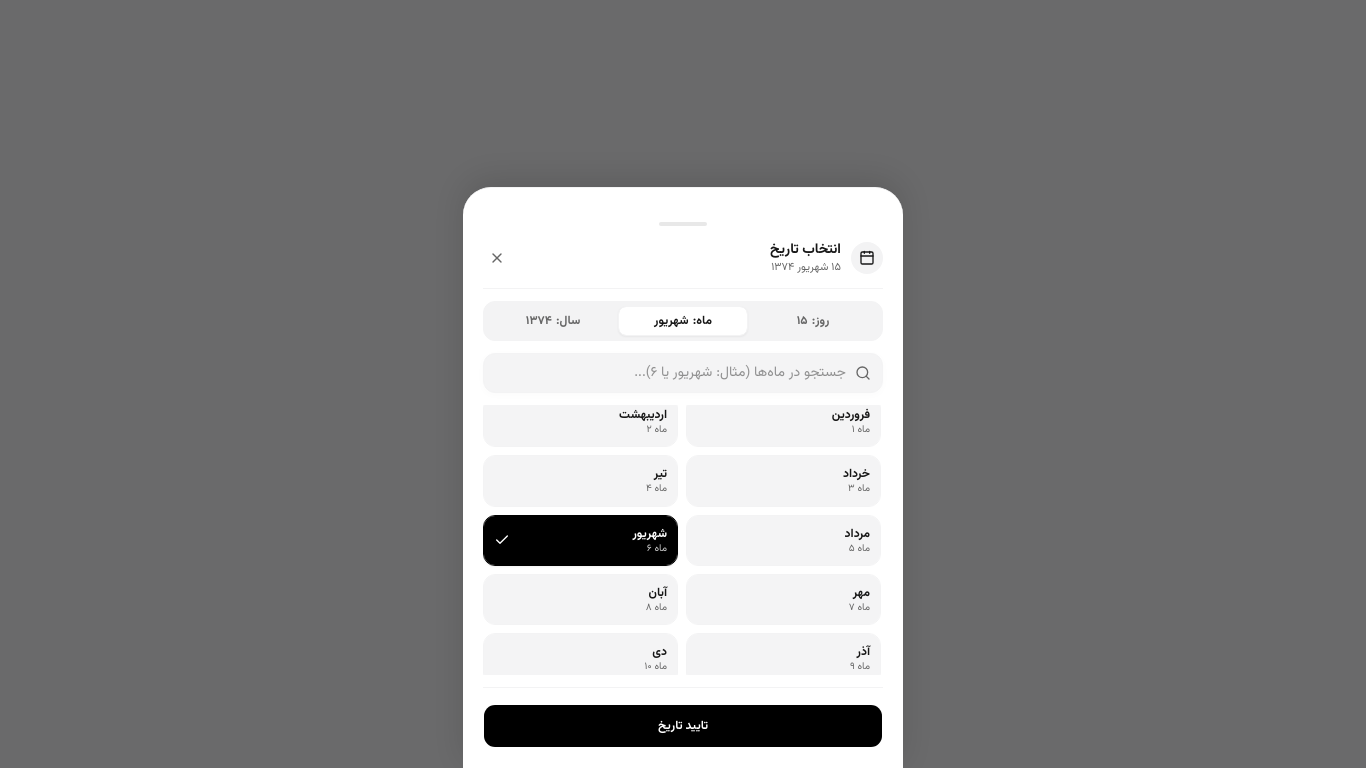
Test: PersianDatePickerDrawer › shows accessible empty state with aria-live when search has no matches
(page scrolled)
In the search field named "جستجوی روز، ماه یا سال": (683, 373) 483,353 -> 883,393, type "کلمه_ناموجود"
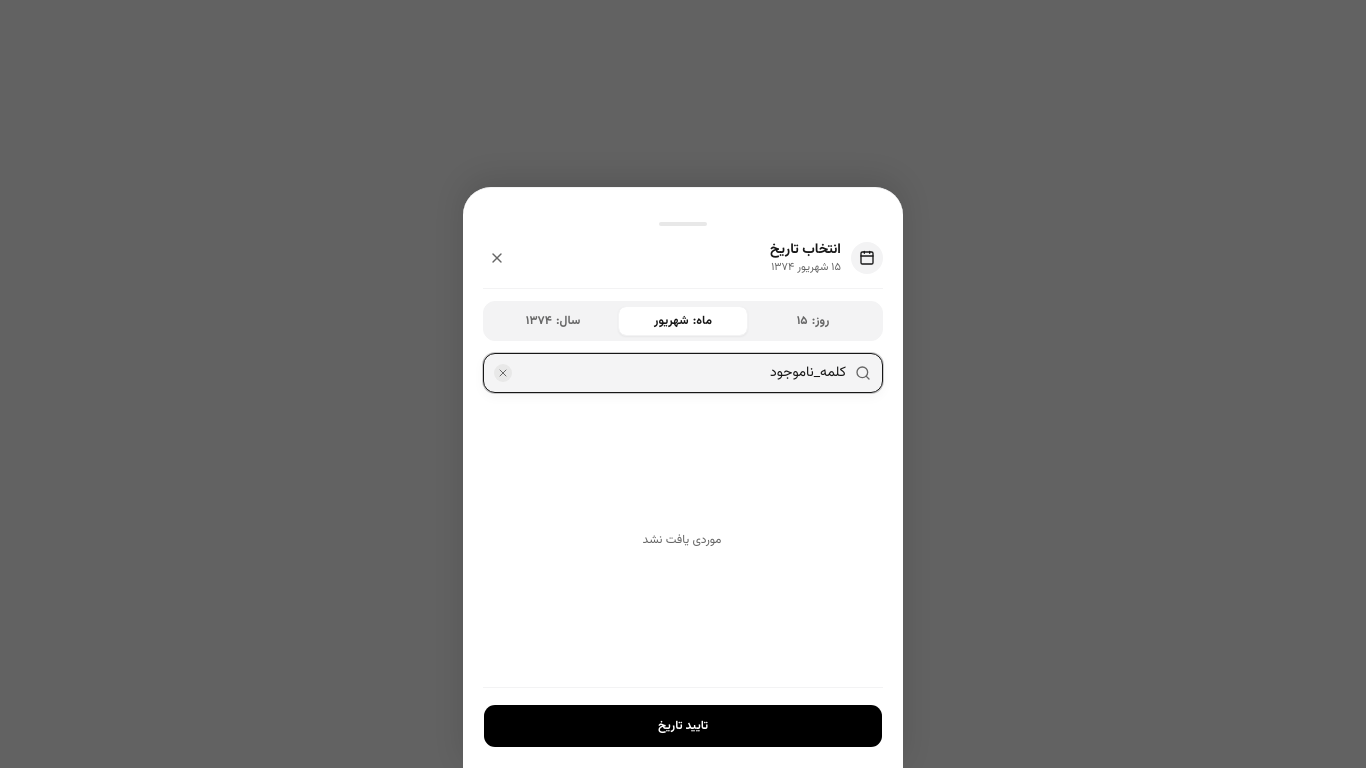
Expected: the message reads "موردی یافت نشد", 642,531 -> 722,549
